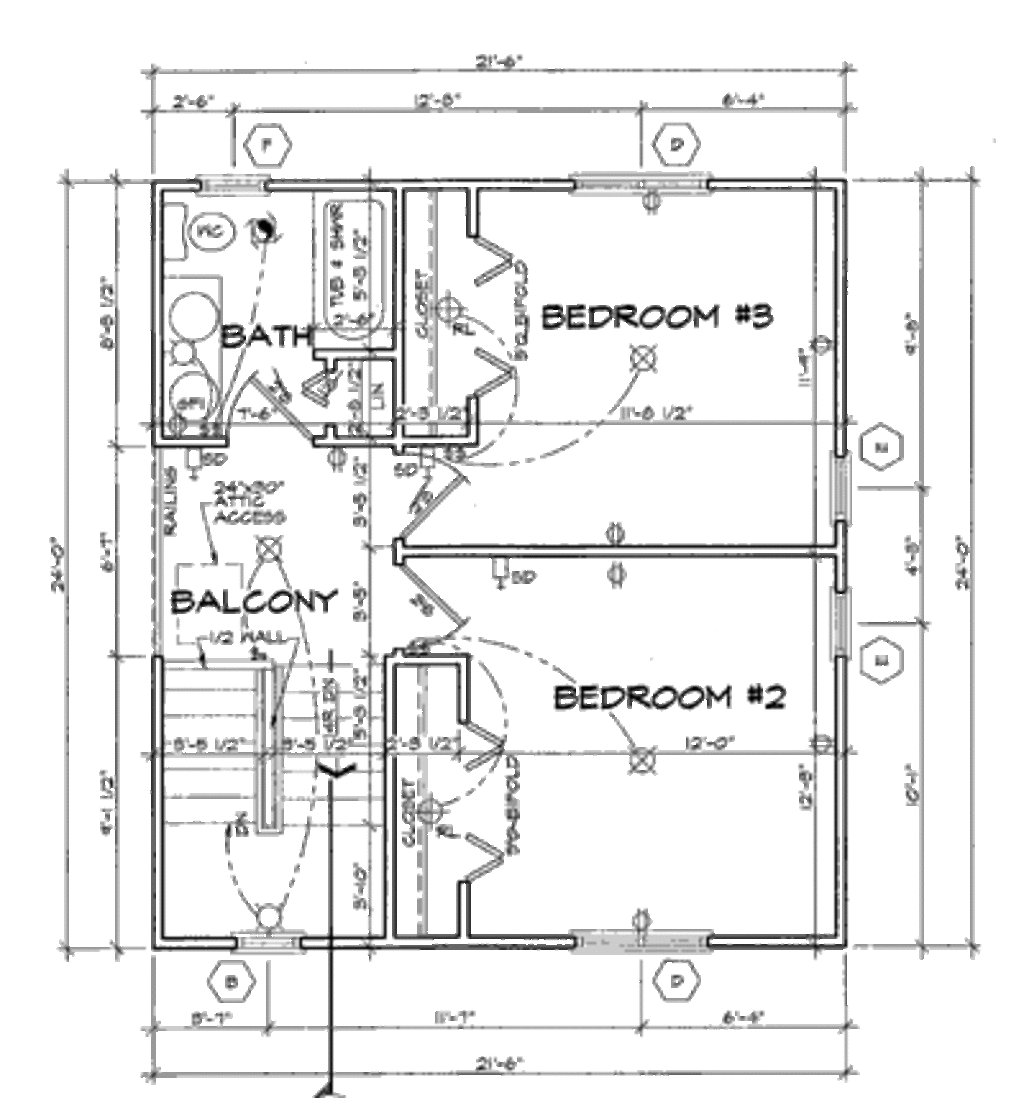door: (377, 437, 470, 545), (390, 555, 479, 664), (230, 375, 317, 452)
large_sink: (155, 192, 247, 269)
small_sink: (159, 284, 222, 439)
stairs: (164, 665, 257, 939), (285, 667, 372, 935)
tub: (302, 189, 392, 349)
window: (560, 922, 712, 962), (574, 170, 714, 207), (824, 452, 872, 527), (827, 582, 854, 659), (187, 174, 259, 195)
